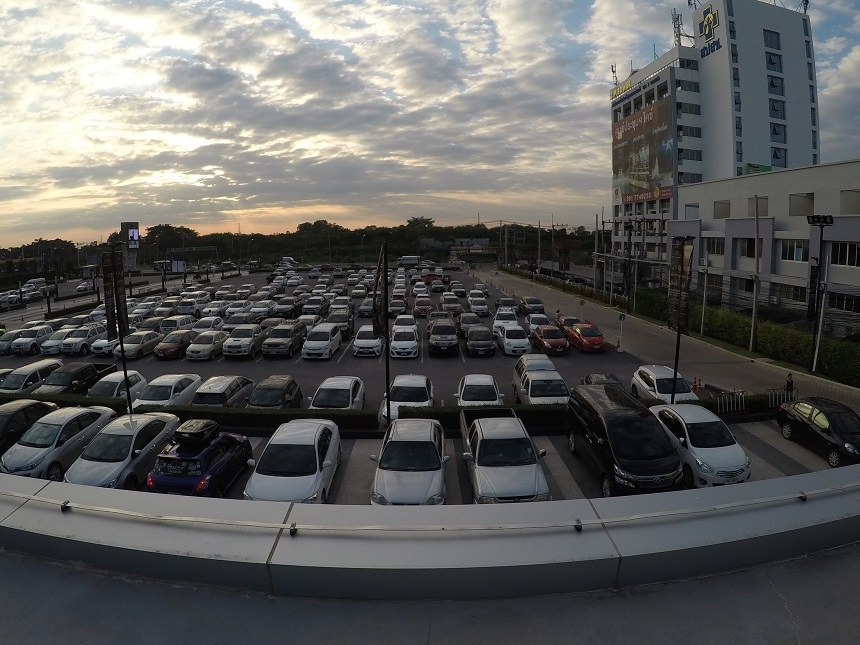busy: (599, 443, 682, 488), (251, 451, 332, 497), (468, 456, 550, 499), (158, 442, 238, 486), (372, 462, 446, 499), (91, 434, 144, 472), (808, 418, 860, 456), (697, 445, 751, 480), (313, 379, 371, 409), (23, 430, 76, 459), (633, 367, 684, 397), (512, 374, 565, 399), (457, 374, 501, 400), (390, 380, 431, 407), (204, 376, 244, 403), (257, 382, 297, 405), (146, 380, 186, 402), (51, 369, 87, 392), (299, 338, 338, 359), (261, 336, 295, 359), (422, 334, 459, 355), (579, 368, 618, 387), (114, 339, 152, 358), (465, 329, 495, 353), (502, 332, 534, 354), (102, 374, 136, 394), (222, 340, 257, 359), (190, 338, 219, 359), (1, 405, 28, 427), (349, 336, 380, 355), (158, 338, 186, 358), (539, 333, 568, 352), (578, 330, 606, 349), (389, 337, 414, 358), (10, 371, 35, 391), (13, 336, 37, 352), (40, 336, 61, 353), (67, 336, 89, 352), (92, 340, 110, 354), (1, 332, 7, 351)
